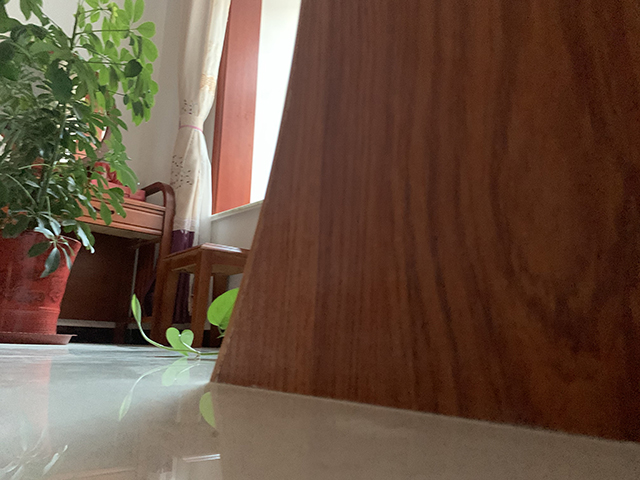curtain: (175, 1, 230, 238)
stool: (149, 241, 249, 349)
table: (62, 181, 178, 347)
